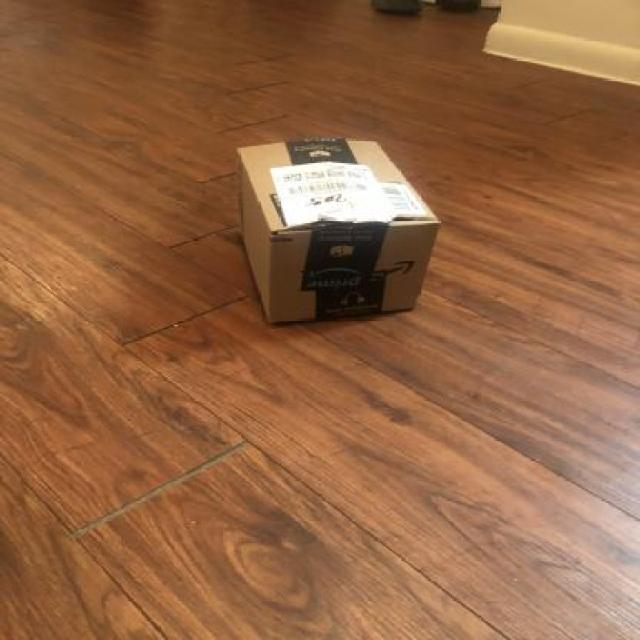cardboxes: (217, 136, 448, 332)
